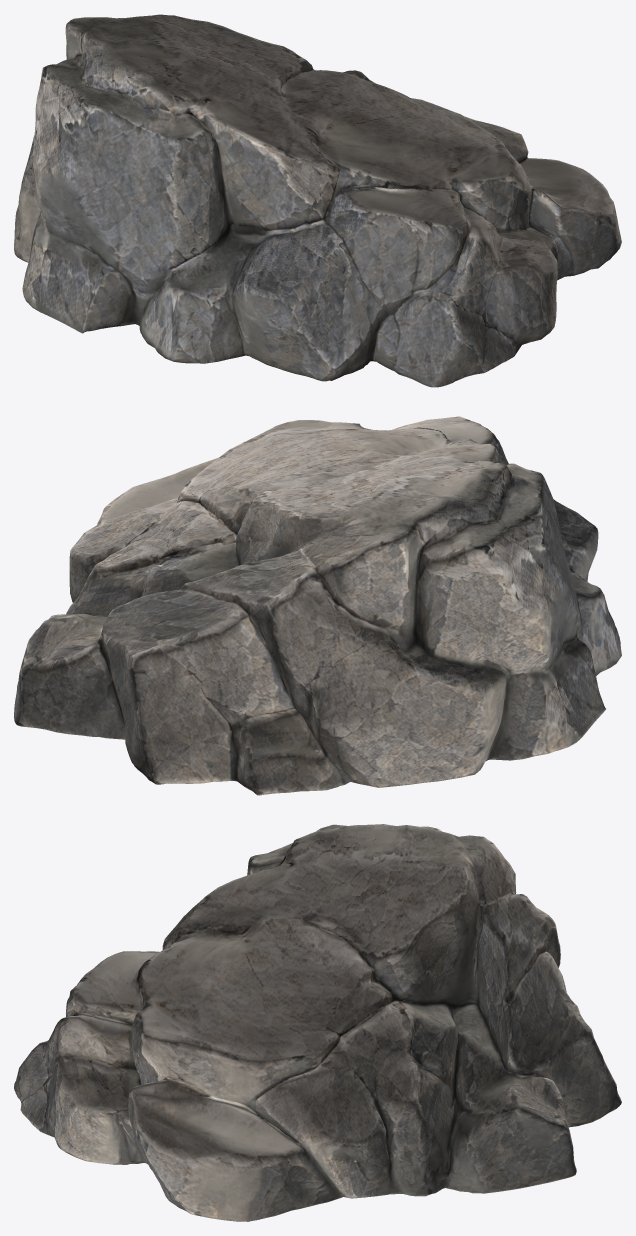
The model's file is Rock2_B.fbx.
3 views of the same model, one above another, from view 1: azimuth 30°, elevation 25°; view 2: azimuth 150°, elevation 25°; view 3: azimuth 270°, elevation 25° (orthographic). The views are drawn at different scales.
Parts seen in each view (by area): view 1: tripo_node_70e8b658; view 2: tripo_node_70e8b658; view 3: tripo_node_70e8b658.
Boxes of the visible parts, left/top/right/bottom form: tripo_node_70e8b658: left=14, top=14, right=621, bottom=387; tripo_node_70e8b658: left=14, top=416, right=621, bottom=795; tripo_node_70e8b658: left=14, top=824, right=621, bottom=1221.
Size of the model in its own units: 91.06 by 100 by 38.05.
